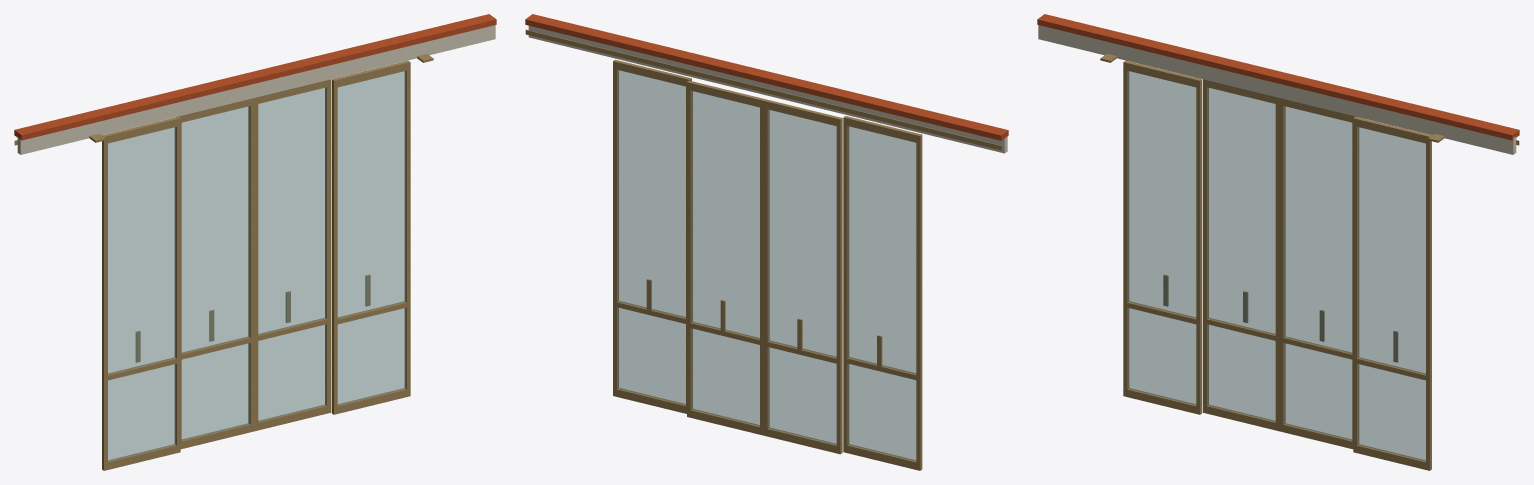
Rendered from retail_public_slider_r002.glb.
3 views of the same model, side by side, from view 1: azimuth 30°, elevation 25°; view 2: azimuth 150°, elevation 25°; view 3: azimuth 330°, elevation 25° (orthographic).
Parts seen in each view (by area): view 1: Panel_L1_glass, Panel_R1_glass, Panel_R0_glass, Panel_L0_glass, track_back, track_cap, Panel_R0_stile_left, Panel_R0_stile_right, Panel_L1_stile_right, Panel_L0_stile_right, Panel_L0_stile_left, Panel_R1_stile_right (+14 smaller); view 2: Panel_L1_glass, Panel_R1_glass, Panel_L0_glass, Panel_R0_glass, track_cap, track_back, track_brass, Panel_L1_stile_left, Panel_L0_stile_left, Panel_L1_stile_right, Panel_L0_stile_right, Panel_R1_stile_right (+14 smaller); view 3: Panel_R1_glass, Panel_L0_glass, Panel_L1_glass, Panel_R0_glass, track_back, track_cap, Panel_L0_stile_right, Panel_L0_stile_left, Panel_R1_stile_left, Panel_R0_stile_left, Panel_R0_stile_right, Panel_L1_stile_left (+14 smaller).
Boxes of the visible parts, x1,y1,x2,y2 form: Panel_L1_glass: (181, 106, 249, 440); Panel_R1_glass: (258, 87, 326, 421); Panel_R0_glass: (337, 71, 405, 405); Panel_L0_glass: (108, 127, 176, 461); track_back: (17, 25, 495, 154); track_cap: (14, 14, 496, 140); Panel_R0_stile_left: (331, 78, 337, 414); Panel_R0_stile_right: (404, 60, 410, 396); Panel_L1_stile_right: (248, 98, 254, 431); Panel_L0_stile_right: (174, 116, 180, 452); Panel_L0_stile_left: (102, 134, 107, 470); Panel_R1_stile_right: (325, 79, 330, 413); Panel_L1_glass: (768, 110, 836, 444); Panel_R1_glass: (691, 91, 759, 425); Panel_L0_glass: (848, 126, 916, 461); Panel_R0_glass: (617, 70, 685, 405); track_cap: (525, 14, 1008, 140); track_back: (528, 25, 1007, 153); track_brass: (525, 29, 1001, 150); Panel_L1_stile_left: (836, 117, 842, 454); Panel_L0_stile_left: (916, 133, 922, 470); Panel_L1_stile_right: (763, 99, 769, 436); Panel_L0_stile_right: (843, 116, 849, 452); Panel_R1_stile_right: (687, 80, 692, 417); Panel_R1_glass: (1284, 106, 1352, 440); Panel_L0_glass: (1128, 71, 1196, 405); Panel_L1_glass: (1207, 87, 1275, 421); Panel_R0_glass: (1358, 127, 1425, 461); track_back: (1038, 25, 1516, 154); track_cap: (1037, 14, 1519, 140); Panel_L0_stile_right: (1196, 78, 1202, 414); Panel_L0_stile_left: (1123, 60, 1129, 396); Panel_R1_stile_left: (1279, 98, 1285, 431); Panel_R0_stile_left: (1353, 116, 1359, 452); Panel_R0_stile_right: (1426, 134, 1431, 470); Panel_L1_stile_left: (1203, 79, 1208, 413).
Bounding box in the file's own units: 5.58 × 4.01 × 0.305.
4 materials, 3 textured.
